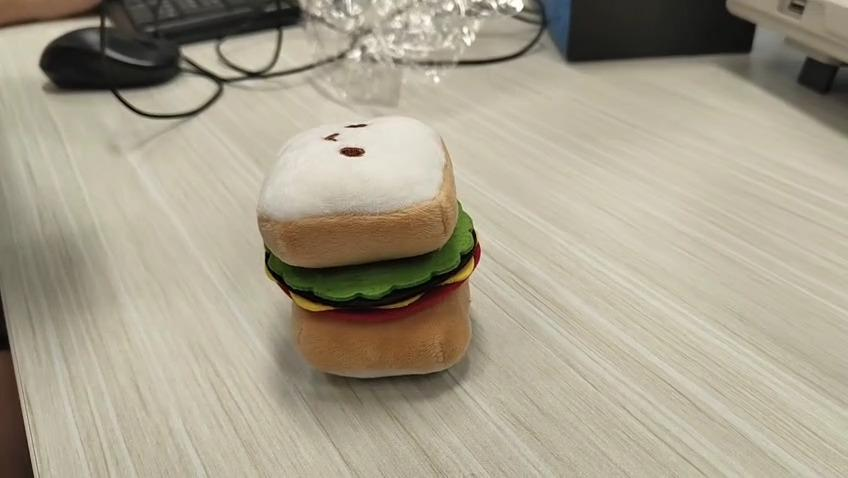objects: (257, 113, 483, 378)
